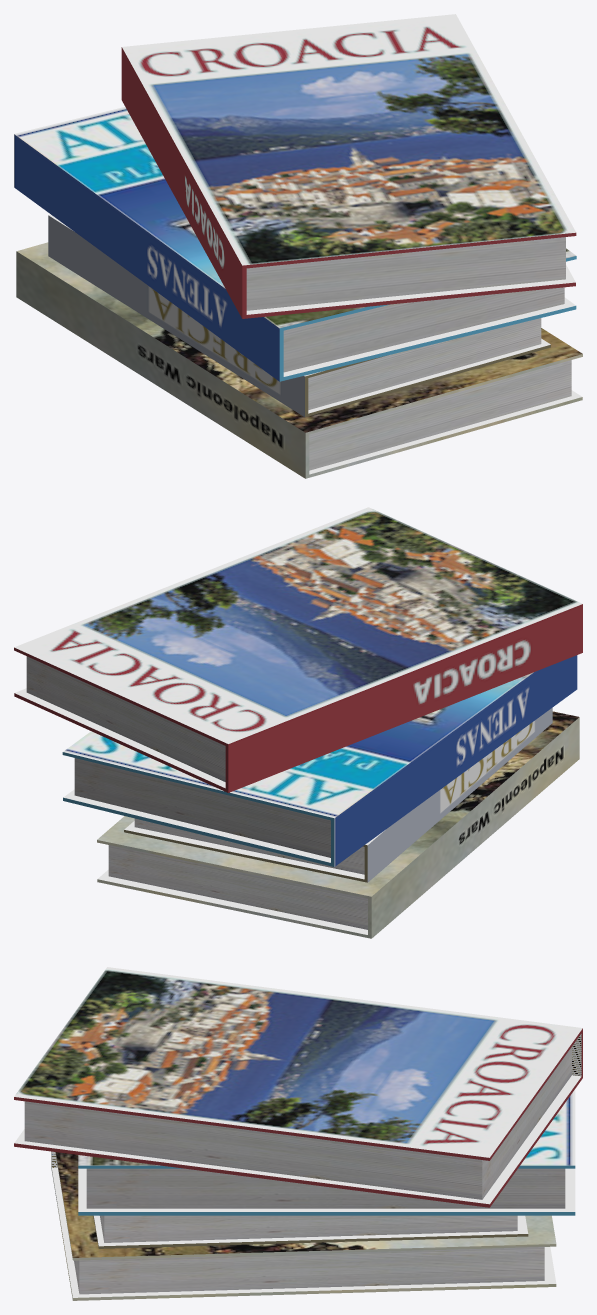
The model's file is Books 6.FBX.
3 renders of one model, top to bottom at view 1: azimuth 30°, elevation 25°; view 2: azimuth 150°, elevation 25°; view 3: azimuth 270°, elevation 25°, orthographic. The views are drawn at different scales.
Visible parts, largest first — view 1: Books 6; view 2: Books 6; view 3: Books 6.
Part boxes in pixels (<box>): Books 6: <box>14,14,582,478</box>; Books 6: <box>14,507,582,938</box>; Books 6: <box>14,967,582,1300</box>.
Bounding box in the file's own units: 30.43 × 13.89 × 38.34.
Materials: 1 (1 with a texture image).
